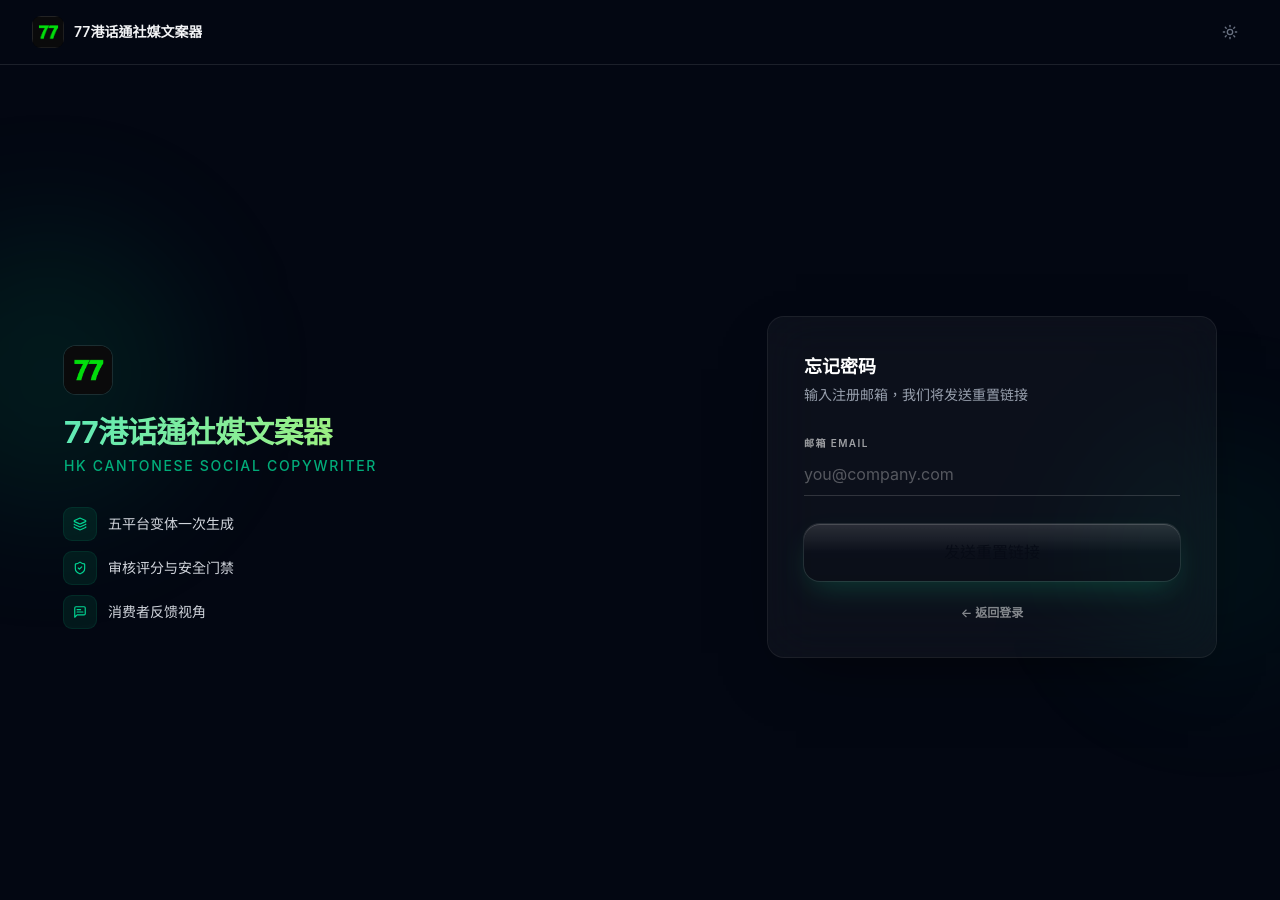
Test case: Slice B — resetPassword behavior › resetPassword failure does NOT show success message
// Fill email and submit
Step 1. Type "test@example.com" into the field labelled "邮箱 Email" → (992, 479), box [804,462,1180,496]
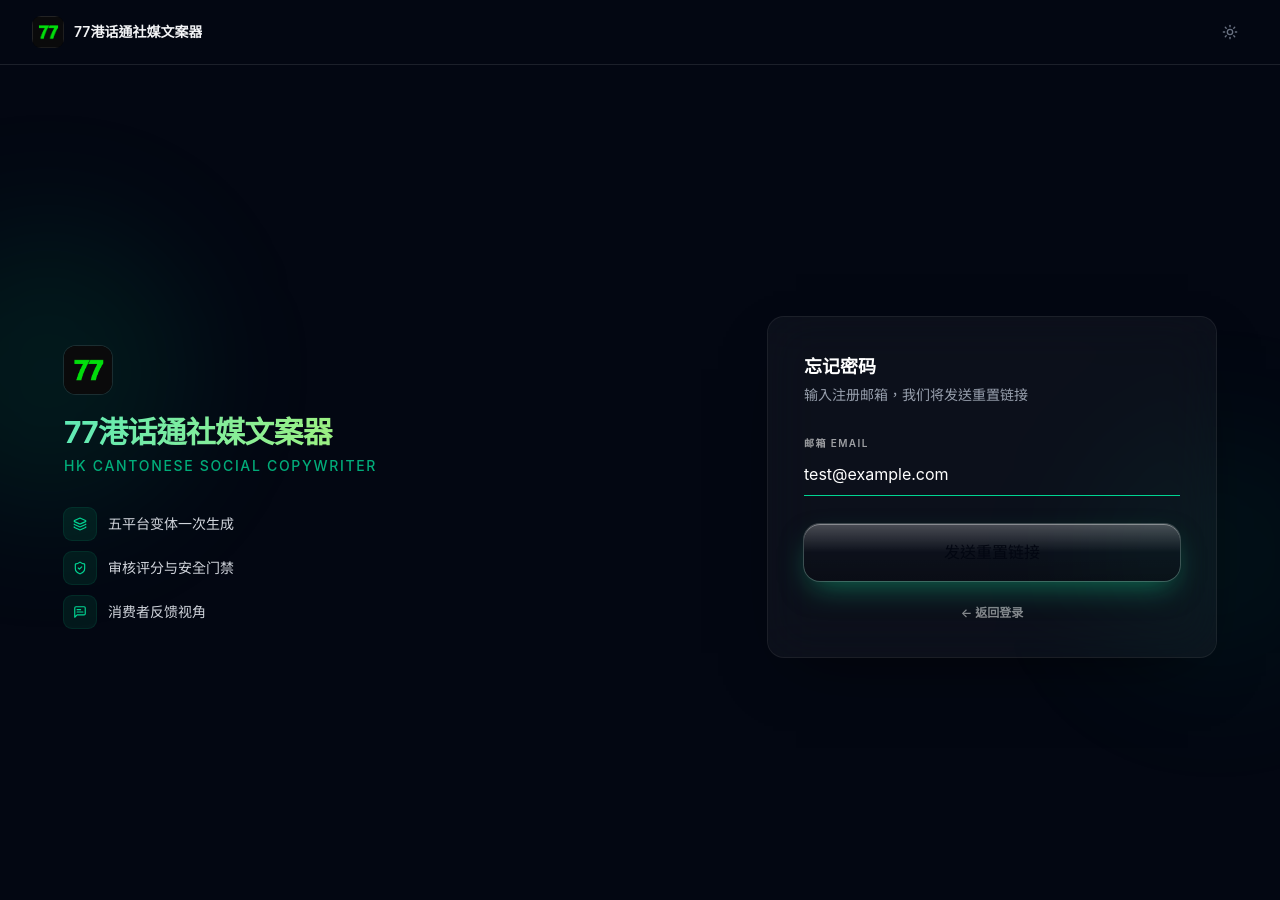
Step 2. Click the button "发送重置链接" → (992, 552), box [804,524,1180,581]
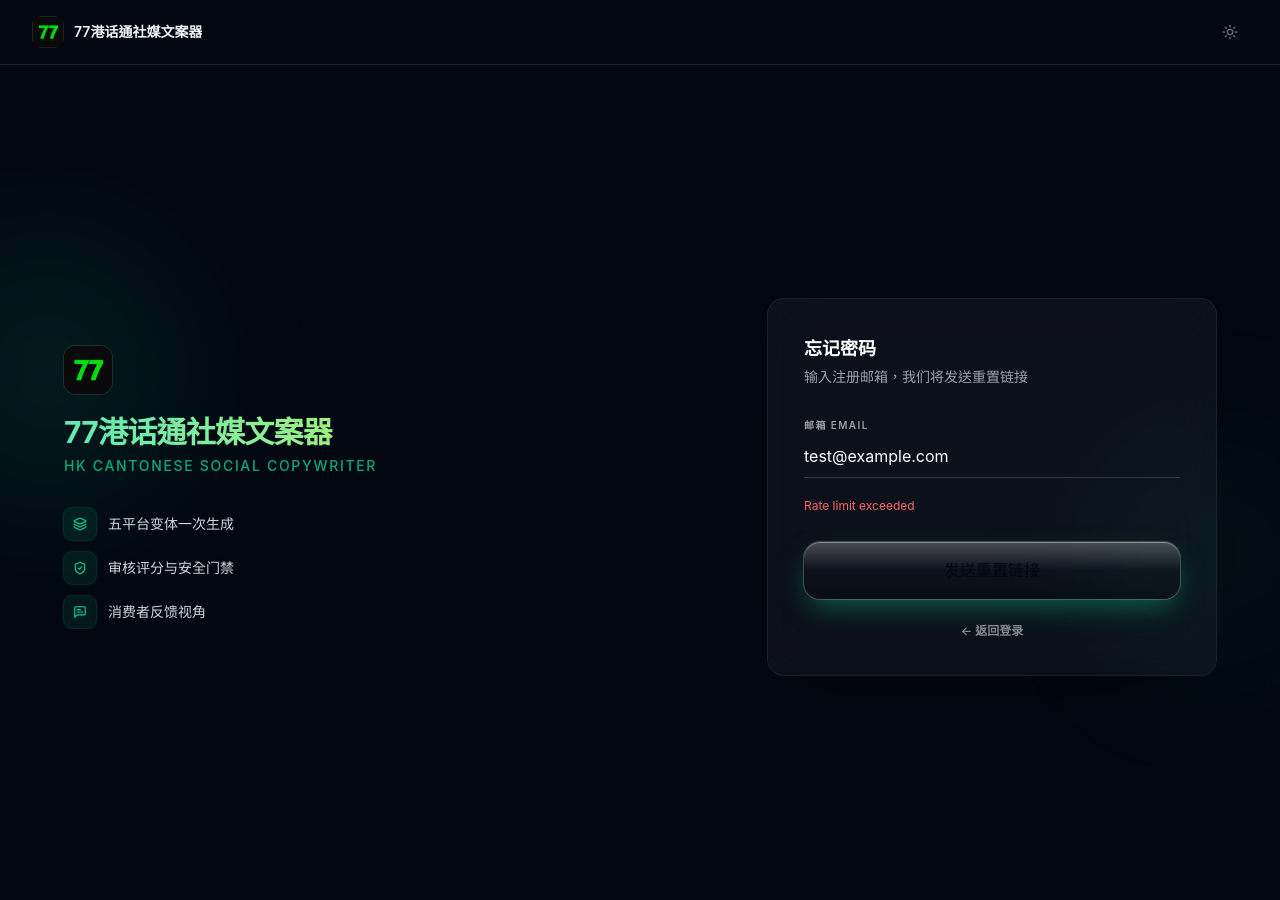
expect the message "Rate limit exceeded" is shown: met, box [804,498,915,513]
